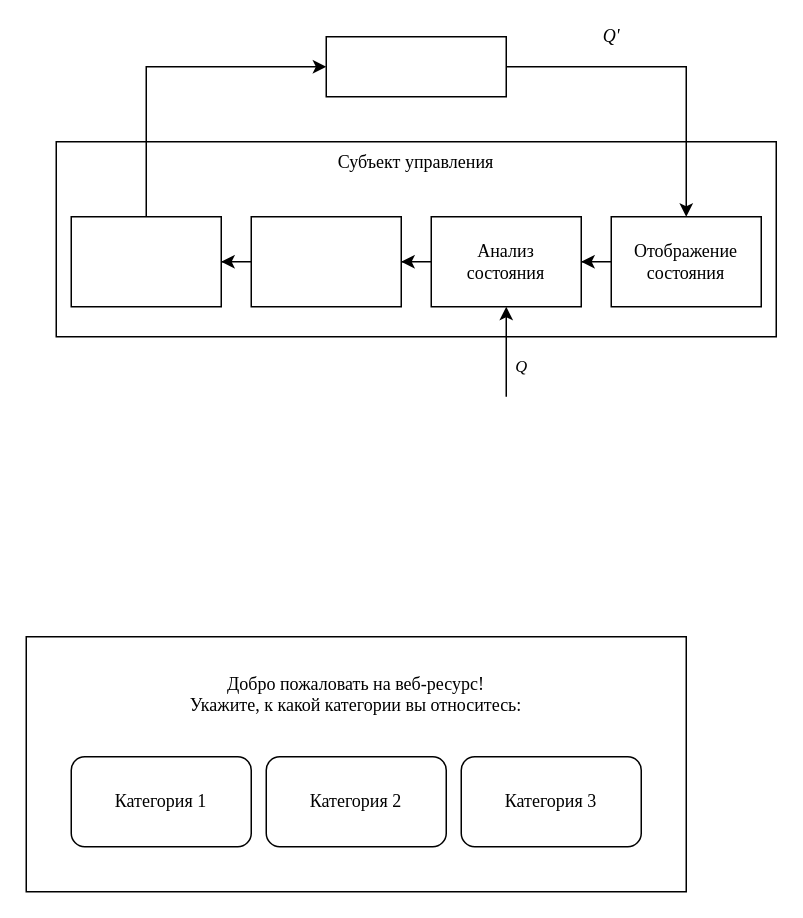
Some shapes in this 803 by 918 pixel diagram are drawn without their labels. The shapes that lost their labels are listed below. From the top down, each one's centre as x and y in pixels, then its label:
At [415,66]: "Объект управления".
At [145,261]: "Формирование управленческого воздействия".
At [325,261]: "Принятие управленческого решения".
